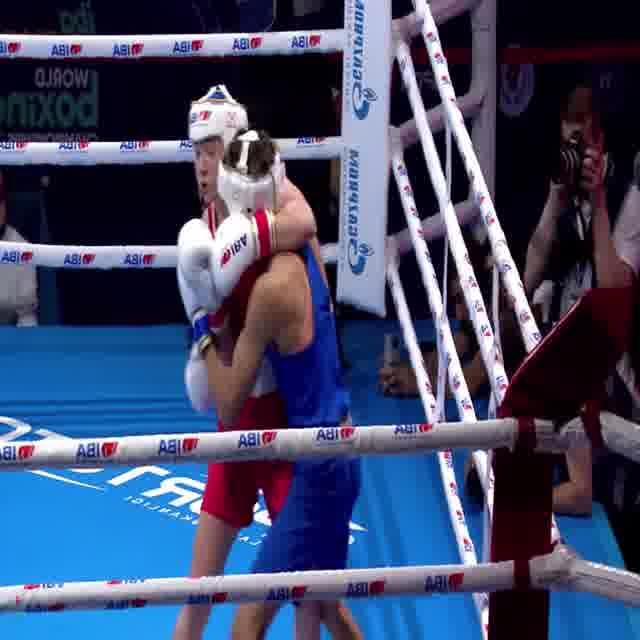blue-player: (177, 121, 366, 640)
red-player: (170, 86, 362, 640)
